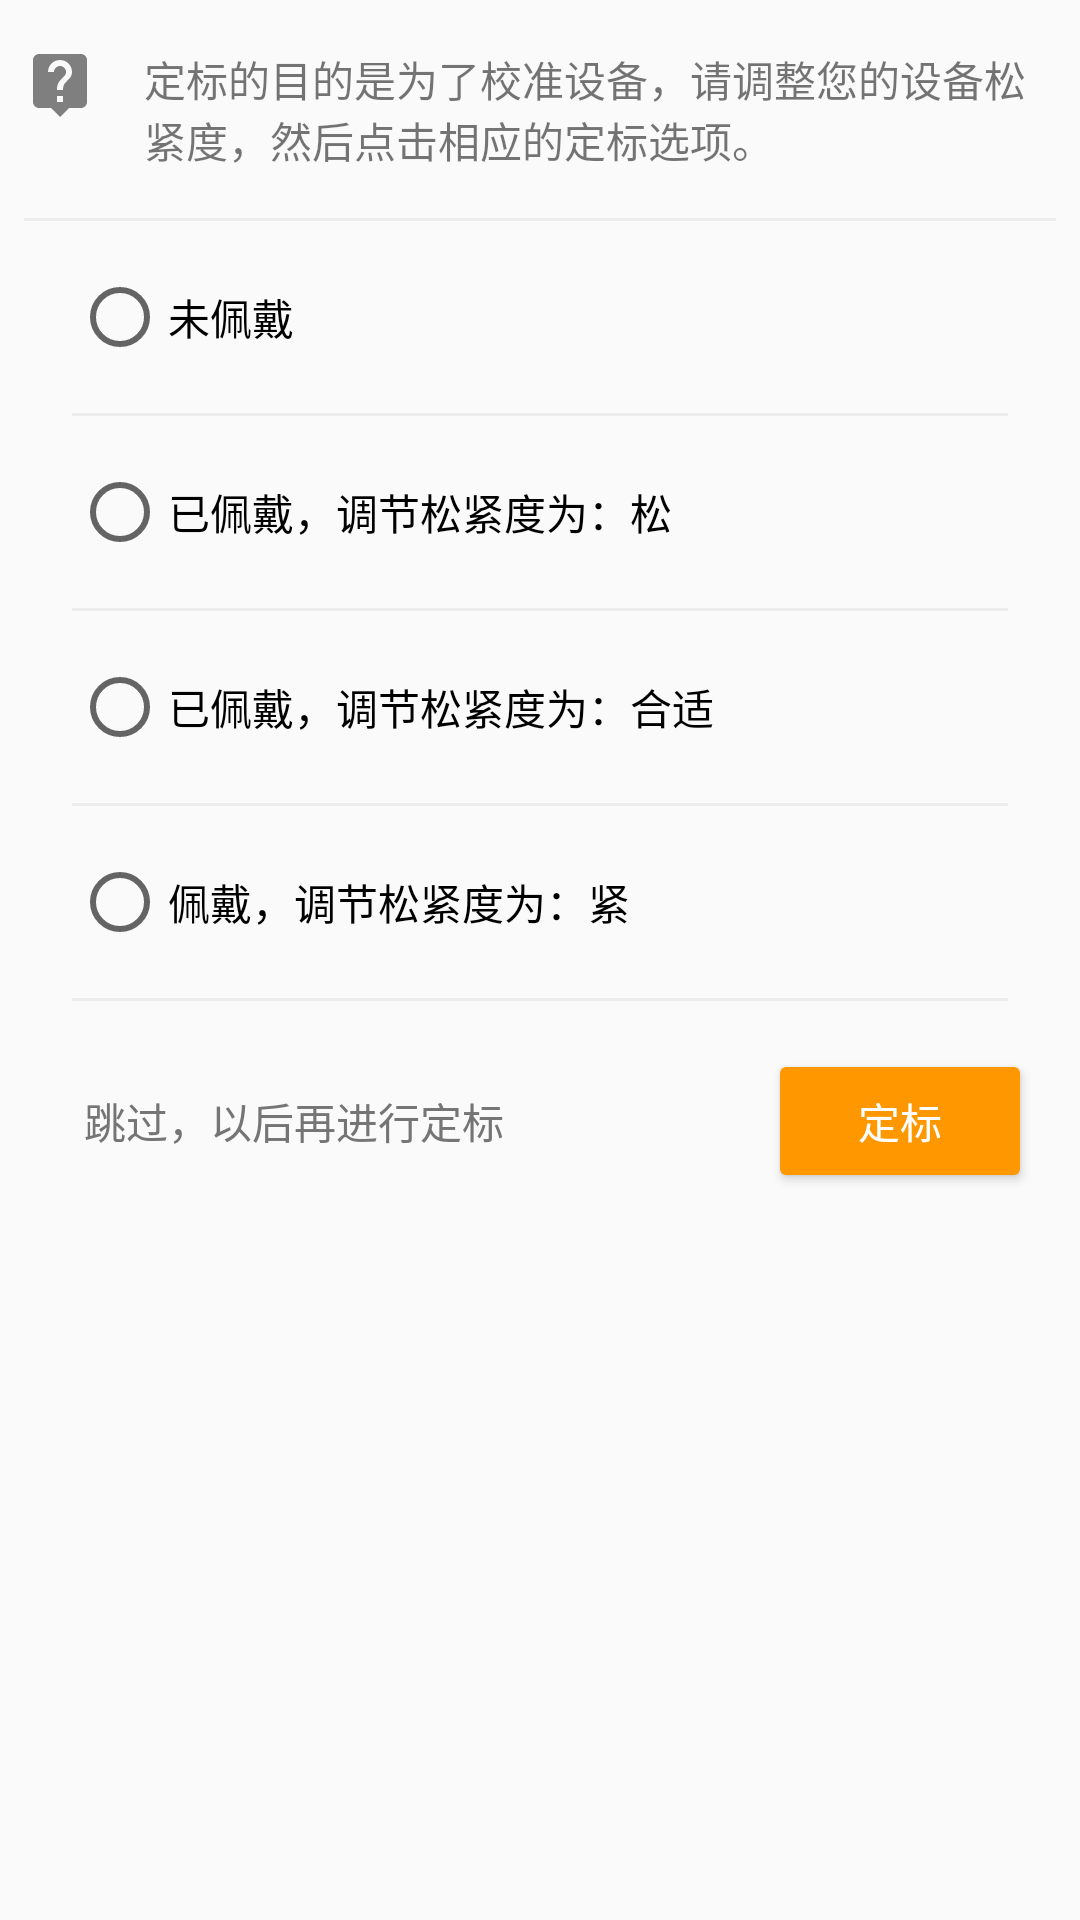

Locate icon controls on the screen. Image size 1080px x 1920px, boxes as (x1, y1, x2, y2).
live help: (33, 54, 87, 117)
